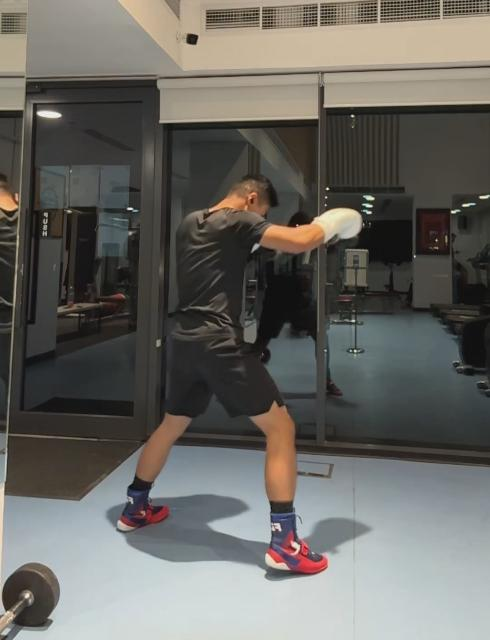punch: (114, 168, 364, 574)
